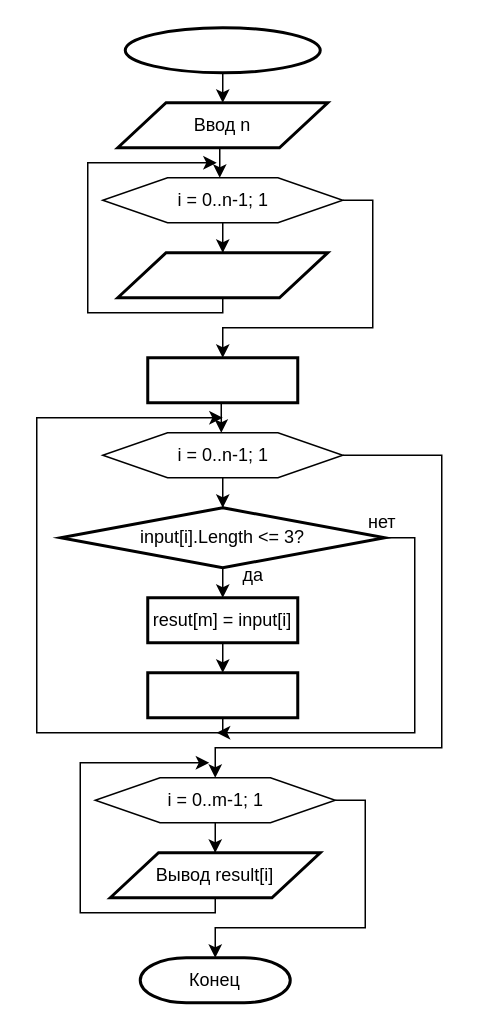
Image size: 480x1029. Some labels were removed from this diagram. The shapes that lost their labels are listed below. From the top down, each one's centre as x and y in pixels, then its label:
the point at 222,50: Начало
the point at 222,274: Ввод input[i]
the point at 222,380: m = 0
the point at 222,694: m = m + 1
